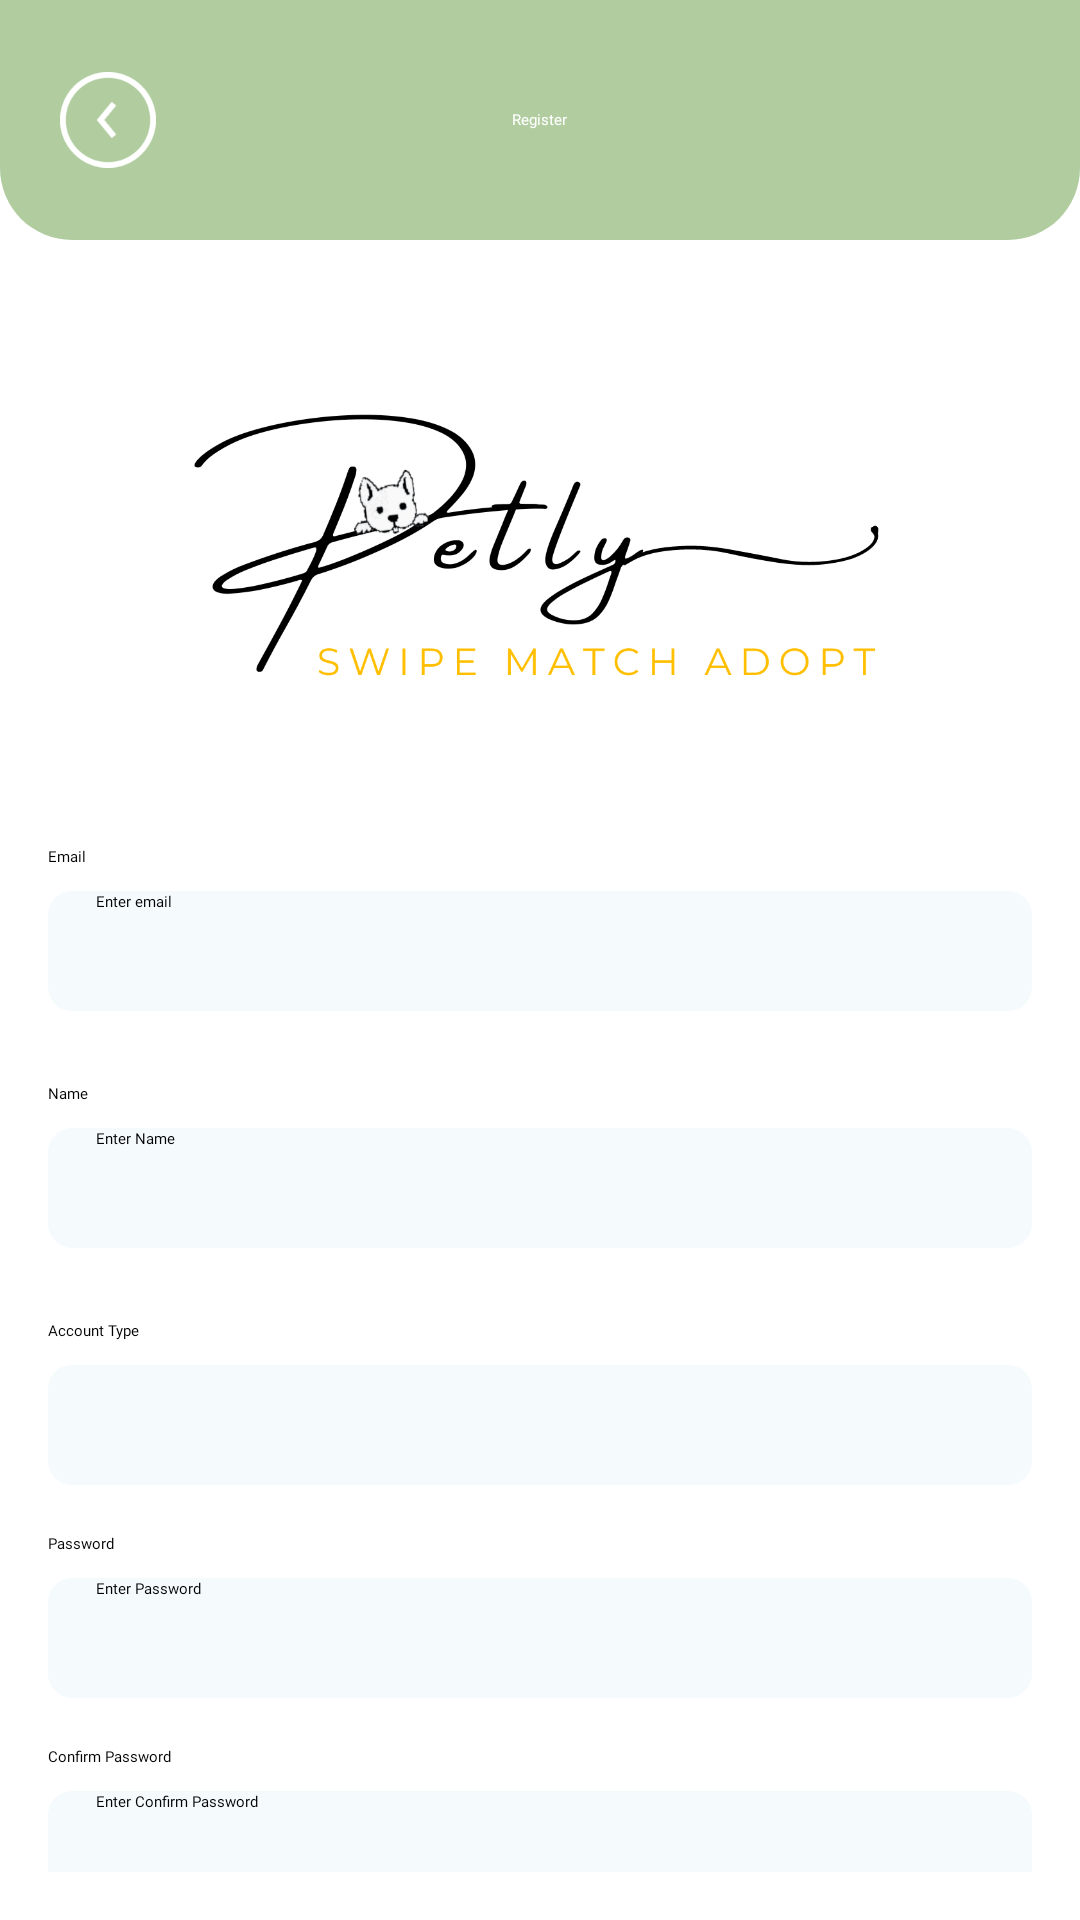

Named icons in this screenshot (1080 × 1920) and their bounding boxes, (x1, y1, x2, y2):
back: (60, 72, 156, 168)
